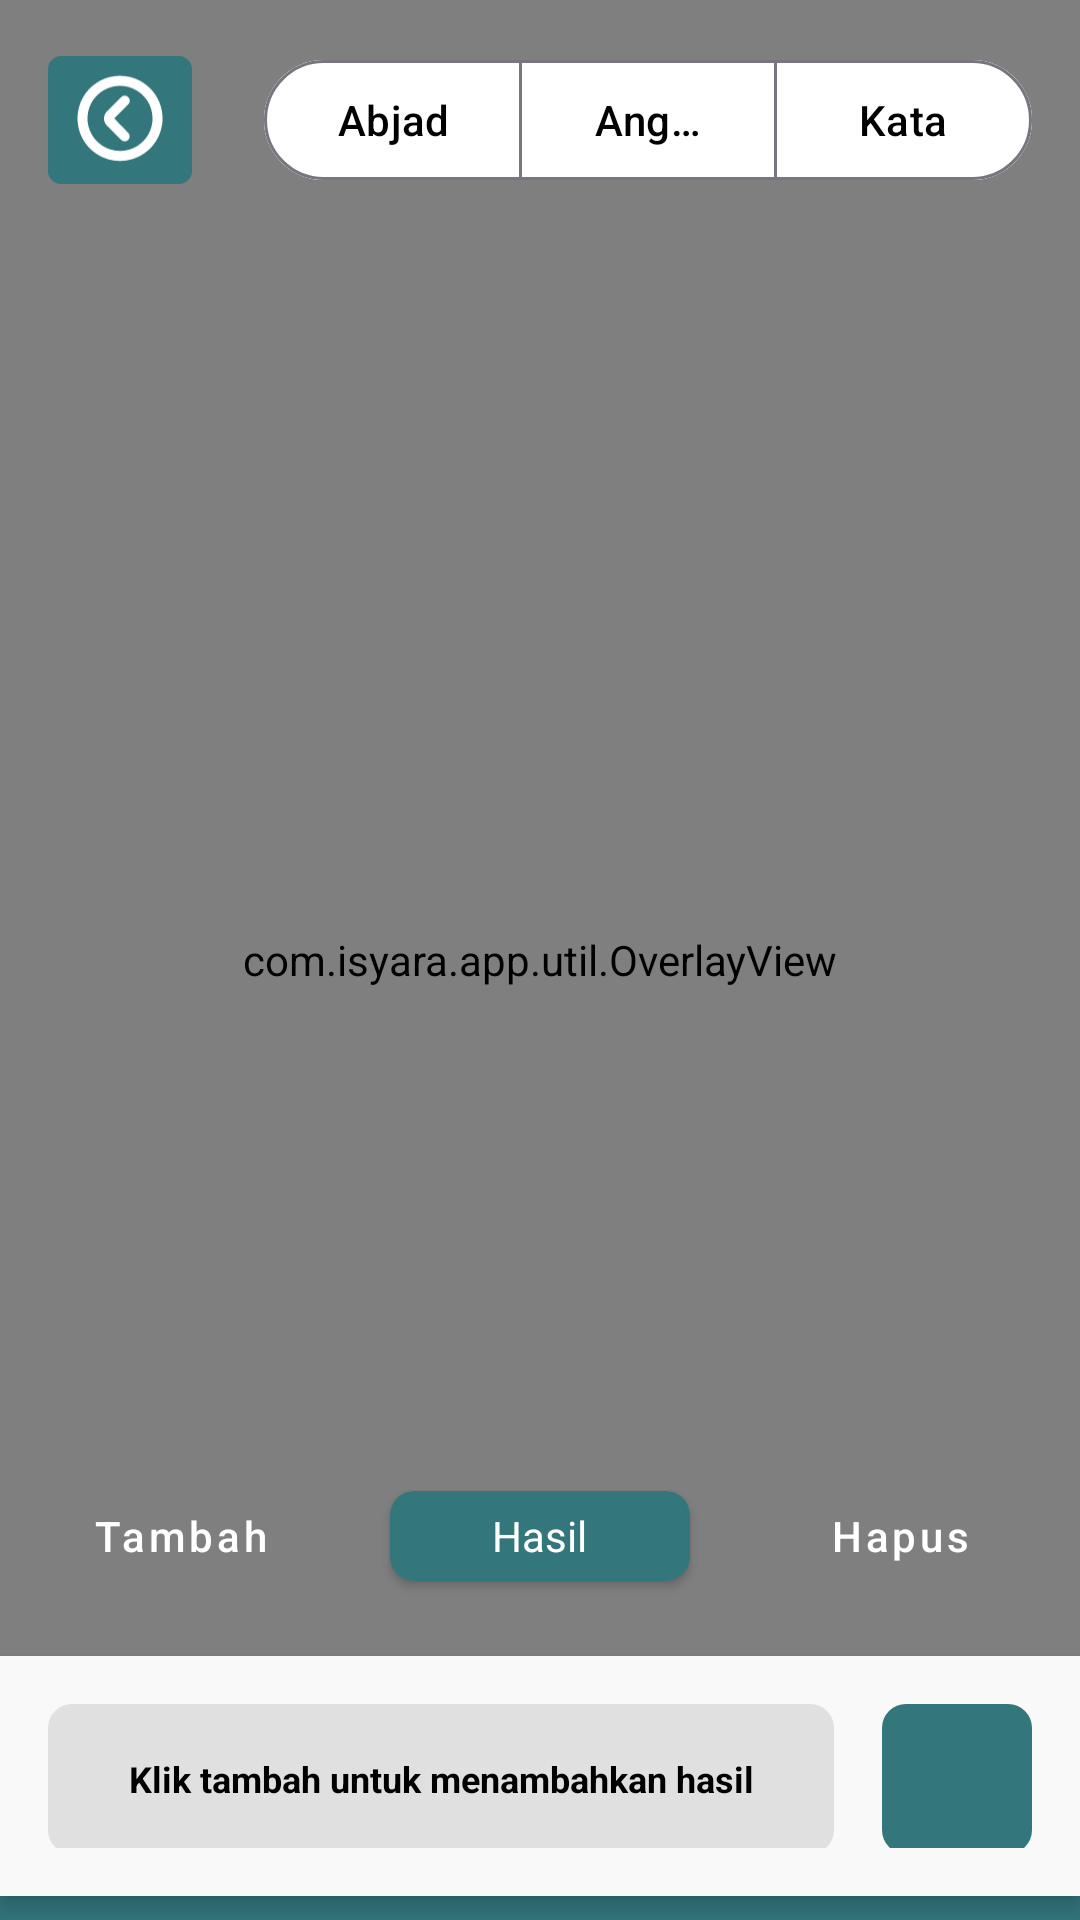

Icon click points for this 1080*1920 phone screenshot, format point (x, y):
Kembali: point (120, 120)
